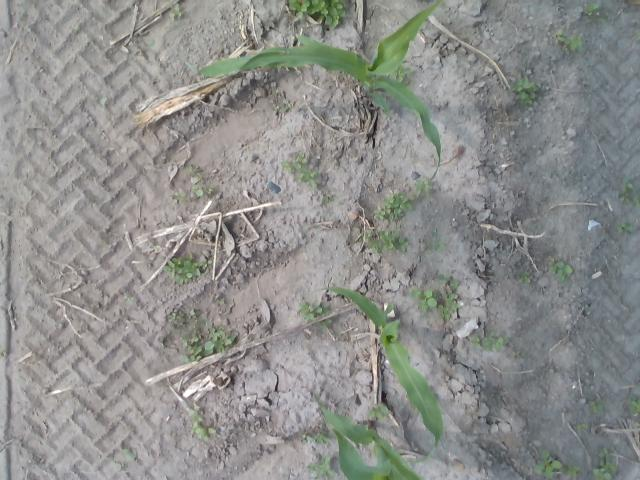Maize: (186, 2, 442, 180), (313, 286, 442, 448), (310, 389, 422, 480)
Weeds: (288, 0, 346, 29), (164, 257, 200, 284), (535, 450, 562, 478), (595, 448, 617, 480), (384, 194, 409, 220), (309, 455, 336, 479), (514, 79, 538, 104), (413, 290, 436, 313), (551, 260, 572, 282), (482, 330, 504, 350), (300, 300, 322, 320), (438, 274, 459, 294), (368, 402, 387, 420), (205, 333, 223, 352), (190, 406, 203, 432), (180, 344, 201, 360), (378, 231, 395, 249), (302, 166, 317, 186), (414, 178, 432, 194), (180, 331, 200, 345), (314, 430, 331, 446), (395, 66, 411, 82), (281, 161, 301, 173), (442, 294, 459, 308), (221, 332, 236, 346), (108, 454, 121, 470), (195, 428, 215, 438), (568, 38, 582, 52), (589, 400, 603, 414), (372, 208, 387, 221), (630, 395, 640, 414), (584, 2, 598, 15), (518, 269, 531, 282), (169, 3, 181, 17), (574, 422, 586, 436), (399, 236, 409, 252), (122, 448, 135, 460), (438, 305, 450, 318), (189, 164, 202, 176), (188, 186, 202, 197), (210, 326, 222, 338), (470, 334, 480, 348), (172, 190, 186, 200), (554, 29, 564, 42), (187, 309, 201, 318), (368, 241, 379, 252), (316, 320, 331, 328), (618, 222, 630, 232), (201, 259, 213, 269), (172, 313, 185, 322), (620, 190, 629, 203), (620, 183, 633, 190), (565, 466, 576, 474), (206, 185, 214, 196), (124, 294, 134, 302), (100, 97, 108, 107), (632, 196, 640, 206), (434, 239, 441, 250), (148, 38, 156, 47), (634, 29, 640, 41), (298, 154, 306, 163), (322, 306, 330, 315), (282, 99, 290, 107), (512, 350, 520, 358), (293, 174, 301, 182), (364, 230, 372, 237), (302, 434, 310, 441), (322, 194, 328, 203), (430, 229, 437, 236), (70, 29, 78, 35), (333, 198, 340, 204), (502, 338, 508, 344), (596, 18, 604, 22), (586, 19, 592, 23)
